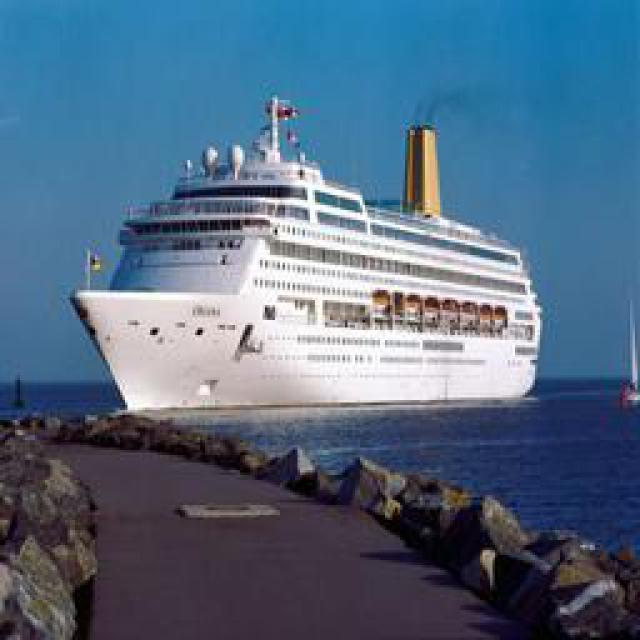Ship: (64, 88, 549, 426)
